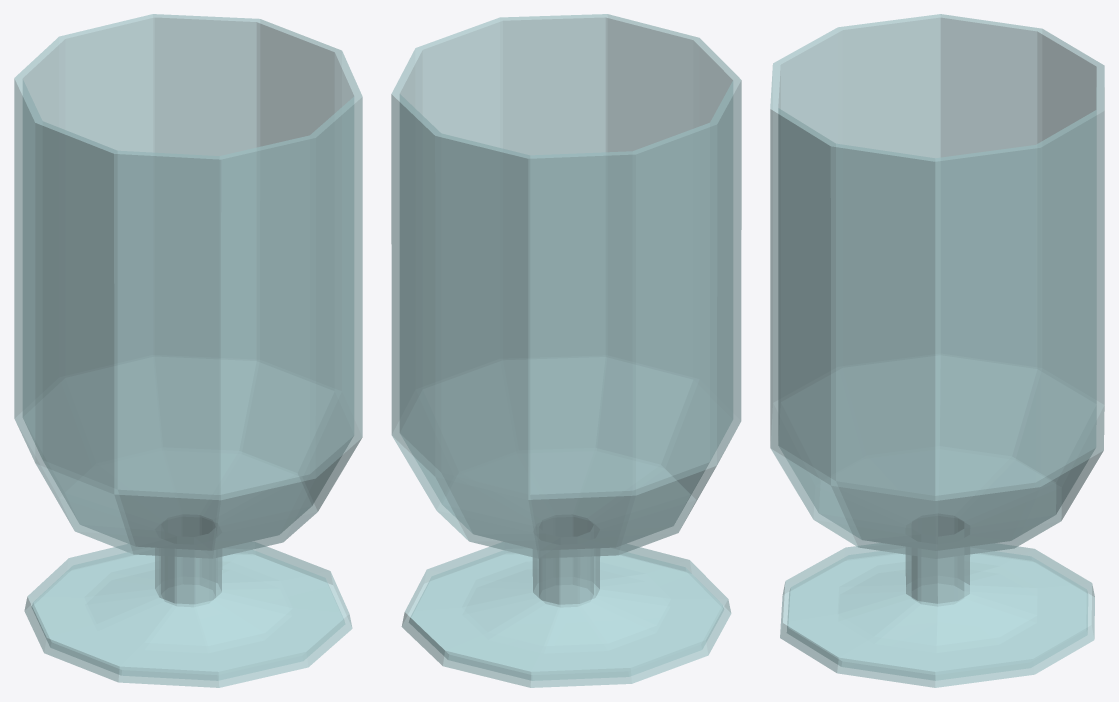
3 renders of one model, left to right at view 1: azimuth 30°, elevation 25°; view 2: azimuth 150°, elevation 25°; view 3: azimuth 270°, elevation 25°, orthographic.
Parts seen in each view (by area): view 1: Cube; view 2: Cube; view 3: Cube.
Part boxes in pixels (x1,y1,x2,y2): Cube: (14, 14, 362, 687); Cube: (391, 14, 741, 687); Cube: (770, 14, 1104, 687).
Bounding box in the file's own units: 333 × 561 × 319.
